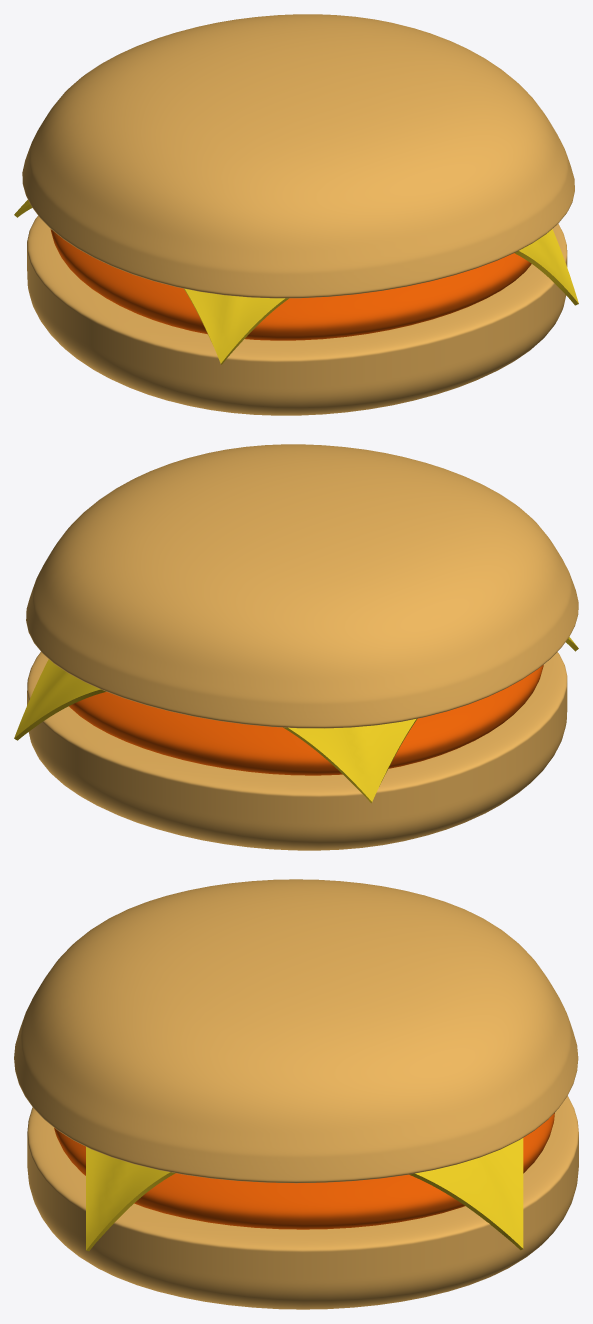
File: hamburger.glb
3 renders of one model, top to bottom at view 1: azimuth 30°, elevation 25°; view 2: azimuth 150°, elevation 25°; view 3: azimuth 270°, elevation 25°, orthographic. The views are drawn at different scales.
Parts seen in each view (by area): view 1: Cube.002, Cube, Cube.001, Plane; view 2: Cube.002, Cube, Cube.001, Plane; view 3: Cube.002, Cube, Cube.001, Plane.
Boxes of the visible parts, <box> form: Cube.002: <box>22,14,574,298</box>; Cube: <box>27,216,567,415</box>; Cube.001: <box>50,229,531,340</box>; Plane: <box>14,200,578,364</box>; Cube.002: <box>26,444,578,728</box>; Cube: <box>27,652,567,850</box>; Cube.001: <box>69,665,543,775</box>; Plane: <box>14,637,578,803</box>; Cube.002: <box>14,879,578,1183</box>; Cube: <box>27,1096,578,1309</box>; Cube.001: <box>54,1113,554,1229</box>; Plane: <box>86,1138,523,1251</box>.
Bounding box in the file's own units: 9.47 × 5.17 × 9.29.
